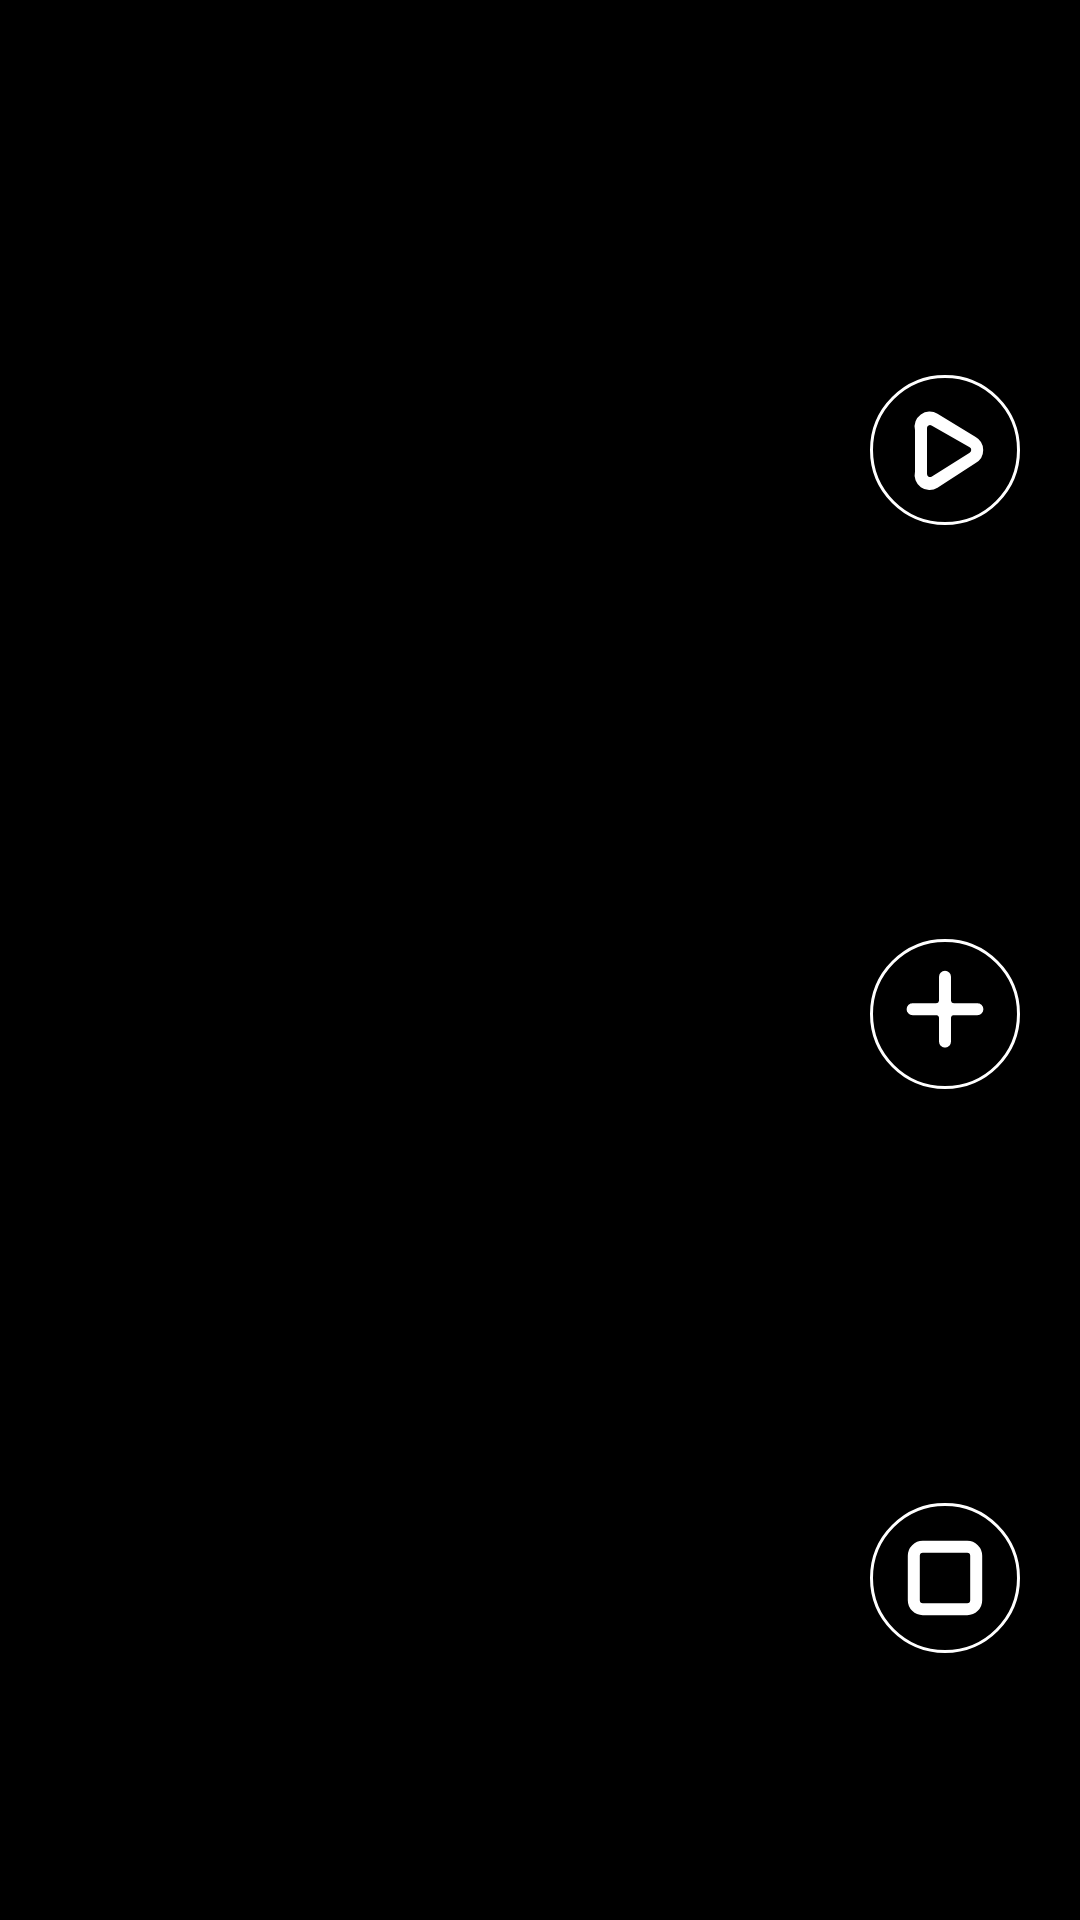

Where icons sit on this 1080*1920 app screen, as [x1=x1, y1=y1, x2=x2, y2=y2]:
End: [x1=870, y1=1503, x2=1020, y2=1653]
Start/Pause: [x1=870, y1=375, x2=1020, y2=525]
